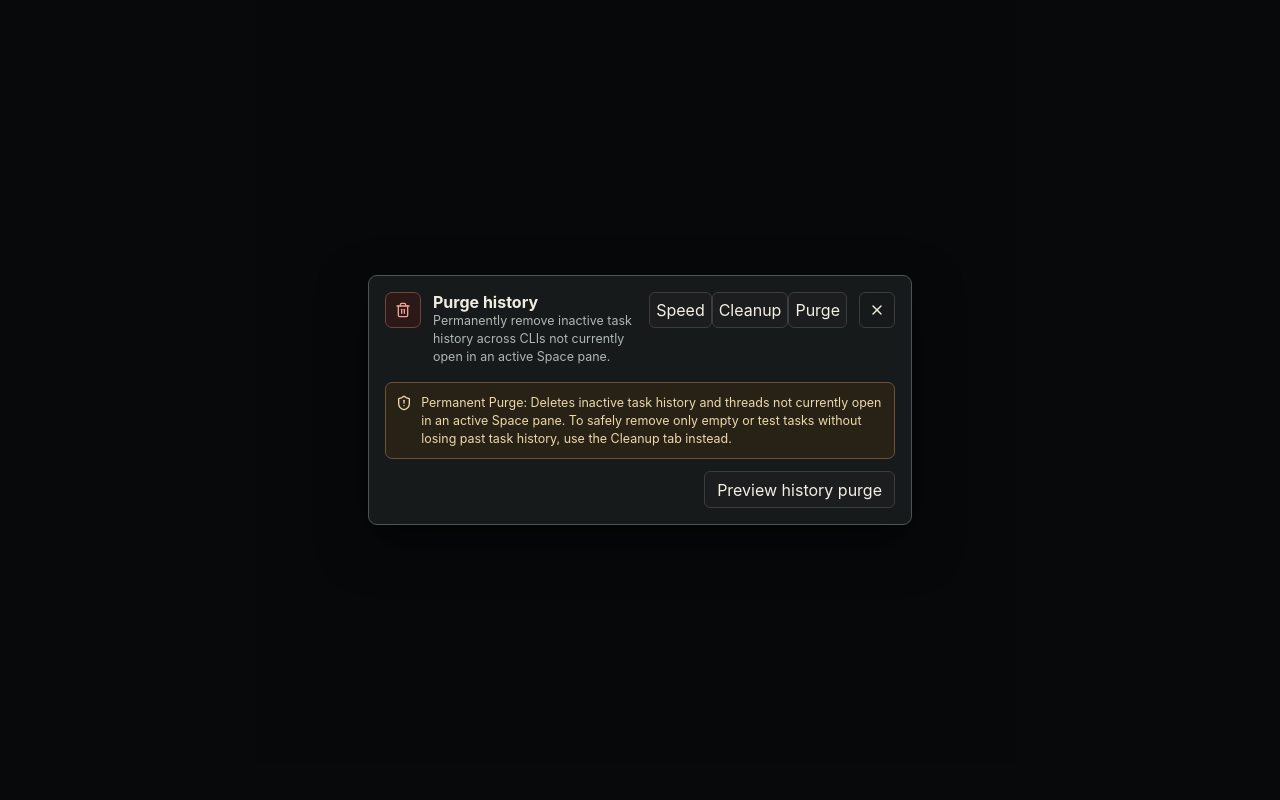
Scenario: AdminCodexToolsDialog › reports a safe NOOP when previewed history becomes protected before purge
The width and height of the screenshot is (1280, 800).
Click the button "Preview history purge" at (800,490), box [704,472,895,508]
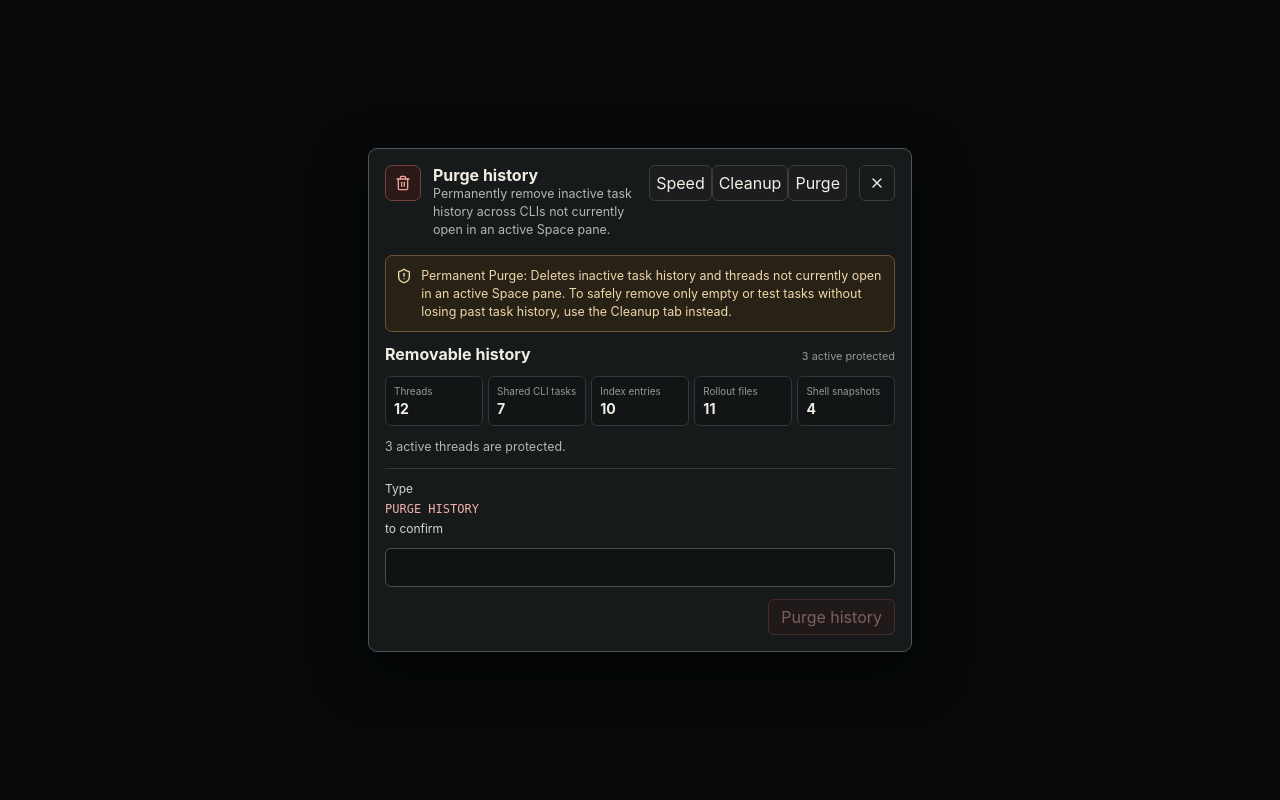
Type "PURGE HISTORY" into the field labelled "Type PURGE HISTORY to confirm" at (640,567), box [385,548,895,586]
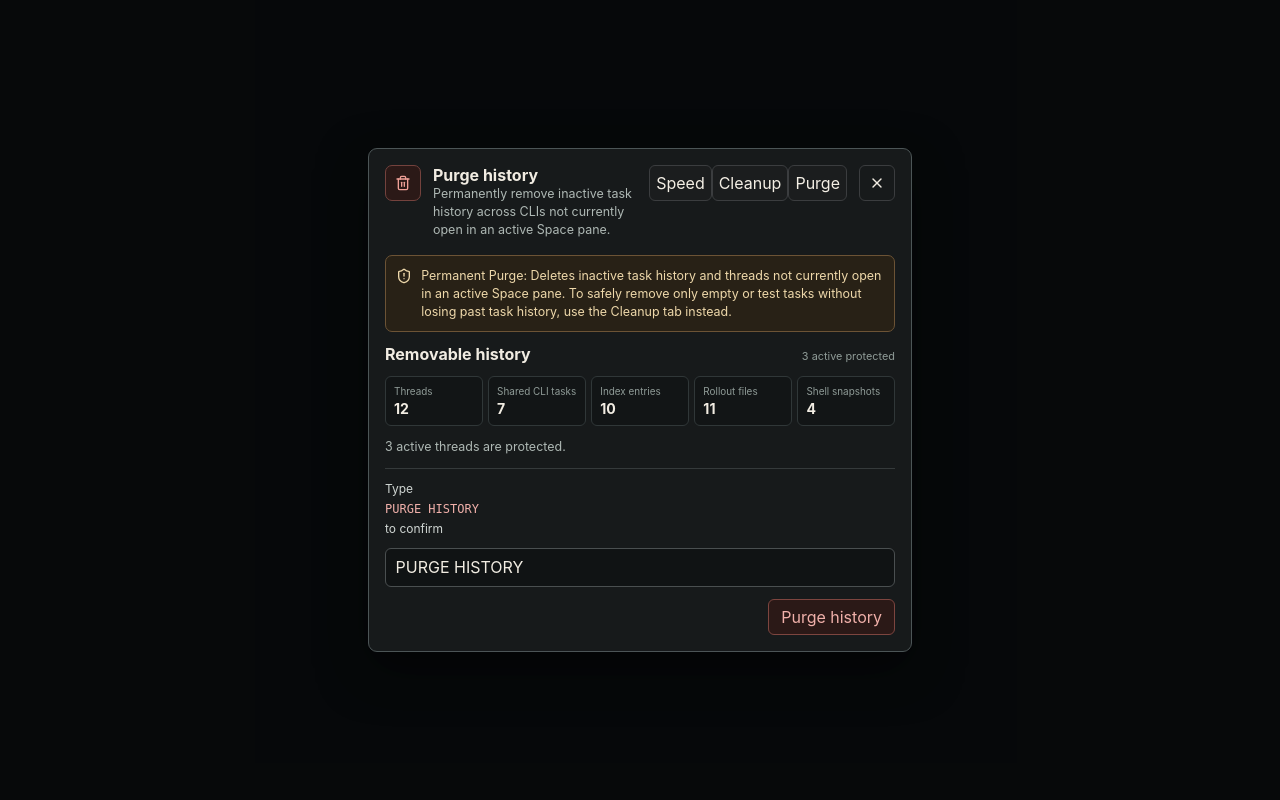
Click the button "Purge history" at (832,617), box [768,598,895,635]
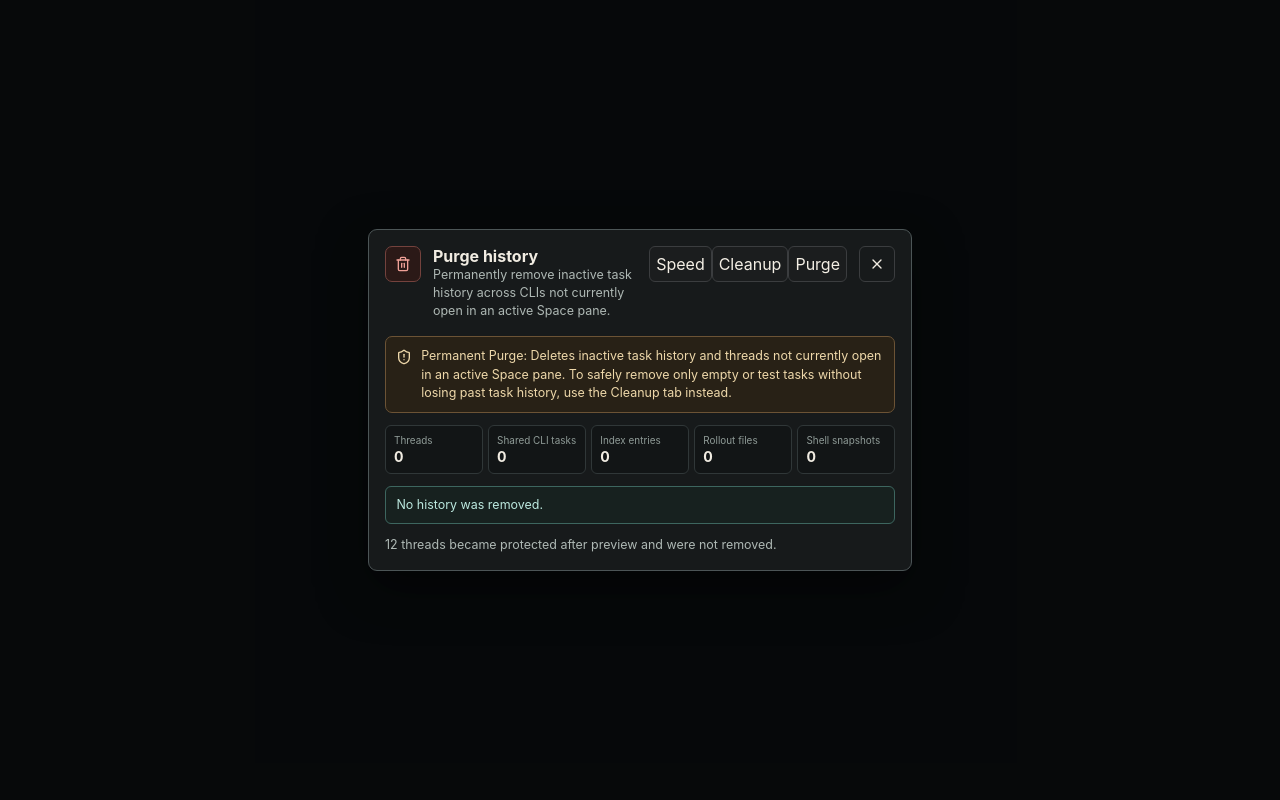
Check: the message shows "No history was removed", box [396,497,543,512]
Check: the text "12 threads became protected after preview" is shown, box [385,537,777,552]
